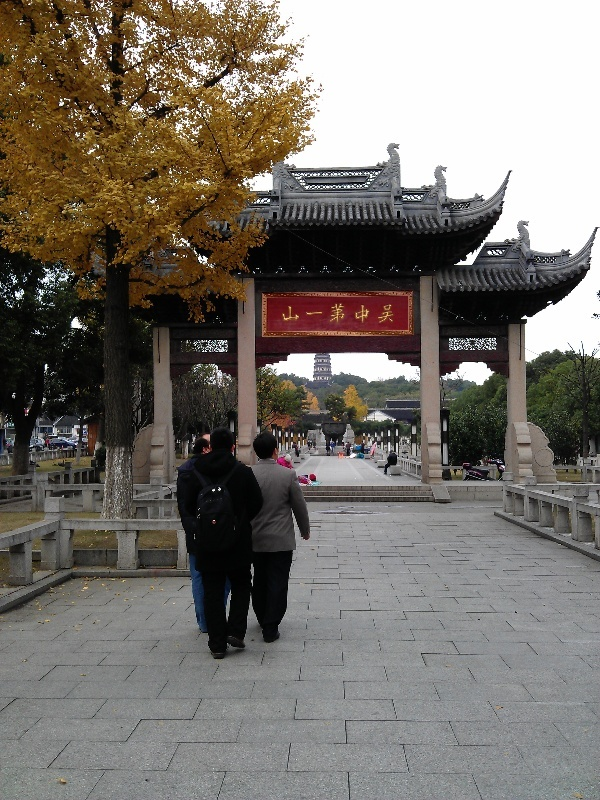text: (289, 302, 304, 325), (305, 302, 320, 325), (321, 302, 336, 325), (337, 302, 352, 325), (353, 302, 368, 325), (369, 302, 384, 325), (385, 302, 395, 325), (281, 302, 288, 325)
